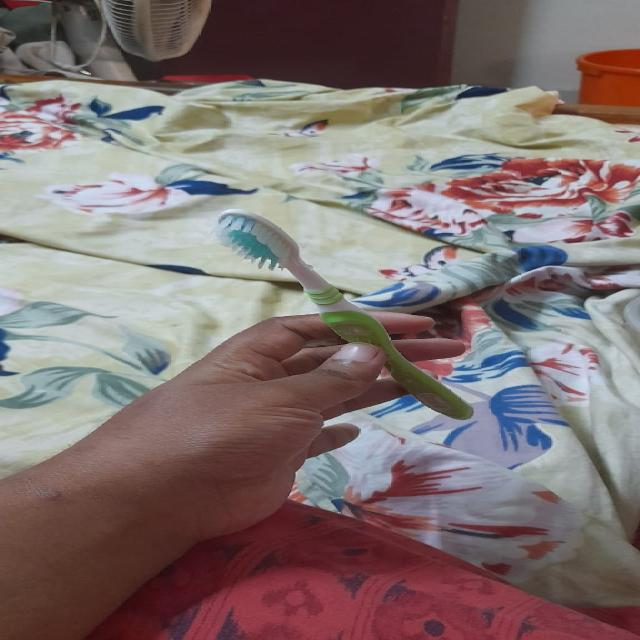Tooth_Brush - Non Recyclable: (203, 206, 490, 434)
